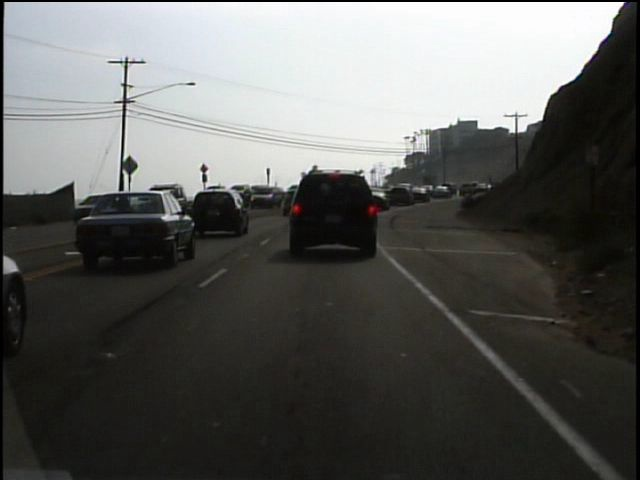person: (170, 182, 185, 213)
